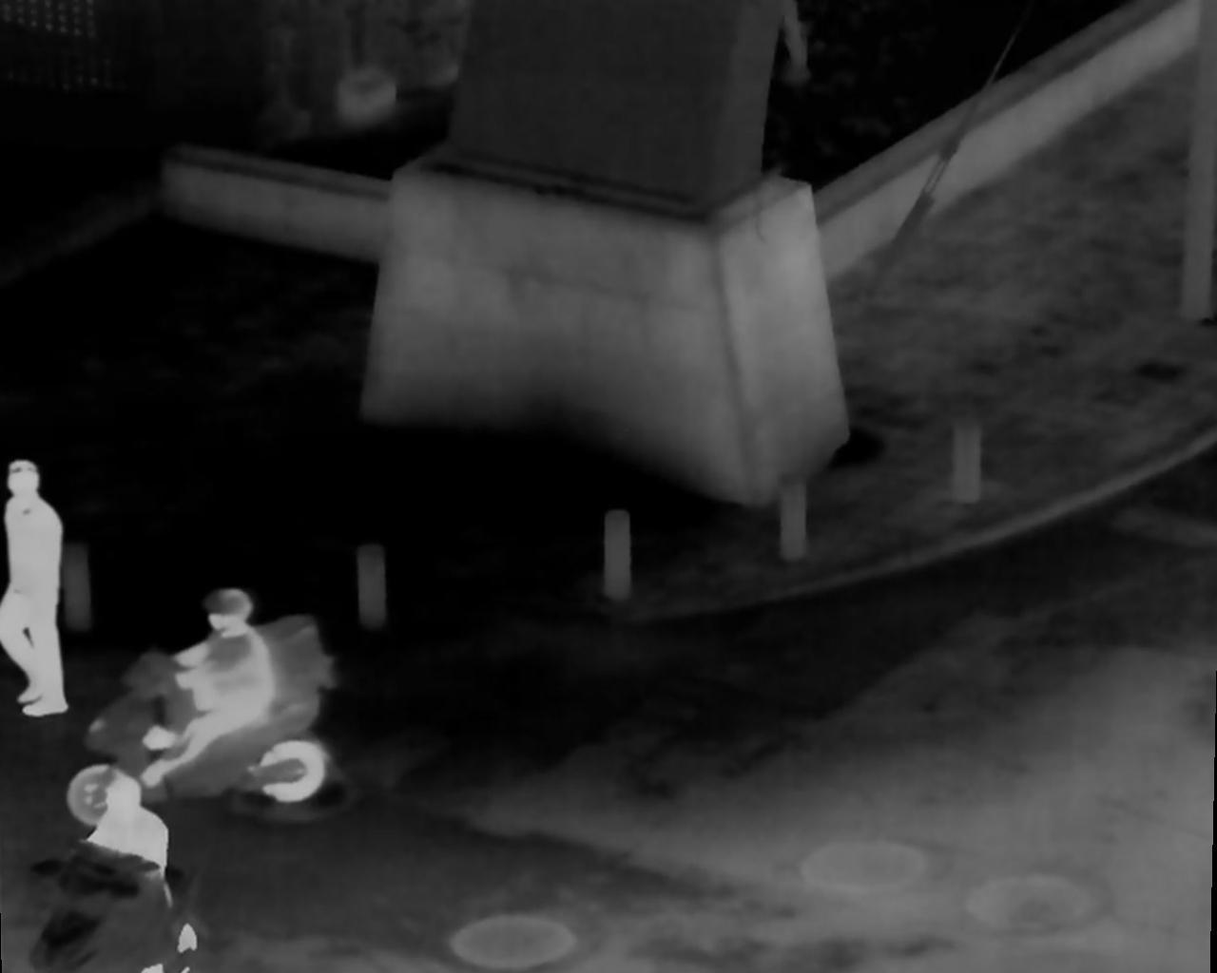person: (160, 594, 281, 781), (5, 459, 74, 717), (85, 771, 176, 929)
